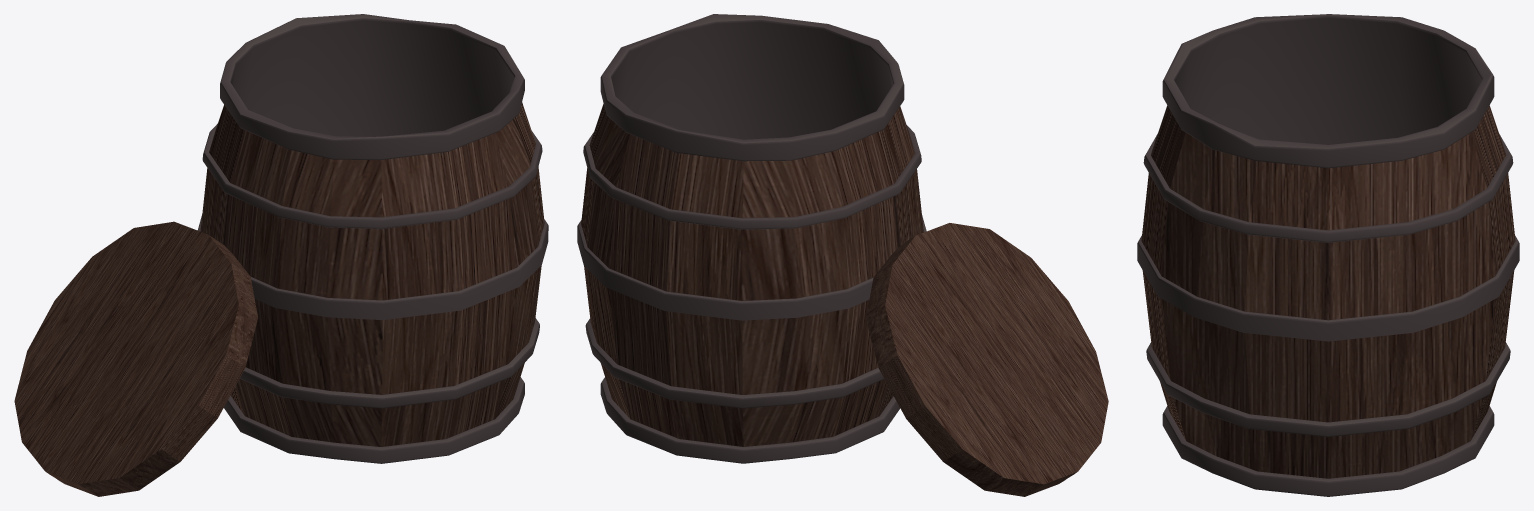
The model's file is Barrel_02.fbx.
3 renders of one model, left to right at view 1: azimuth 30°, elevation 25°; view 2: azimuth 150°, elevation 25°; view 3: azimuth 270°, elevation 25°, orthographic. The views are drawn at different scales.
Parts seen in each view (by area): view 1: Barrel_02, Barrel_Lid_02; view 2: Barrel_02, Barrel_Lid_02; view 3: Barrel_02.
Part boxes in pixels (x1,y1,x2,y2): Barrel_02: (197,14,548,463); Barrel_Lid_02: (14,221,257,496); Barrel_02: (577,14,926,463); Barrel_Lid_02: (866,223,1108,496); Barrel_02: (1137,14,1519,496).
Bounding box in the file's own units: 12.28 × 8.2 × 7.83.
